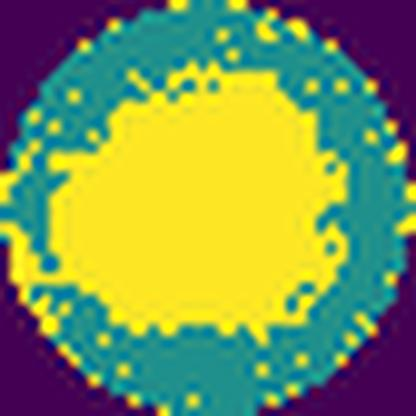Center: (52, 72, 348, 331)
